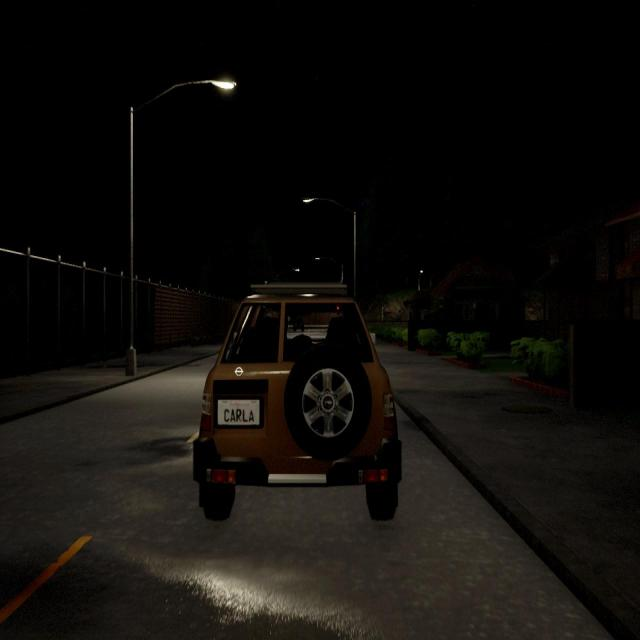Traffic_Signs: (288, 316, 290, 321)
Vehicle: (194, 288, 402, 523), (293, 318, 304, 332)
traffic_light: (336, 306, 339, 315)
